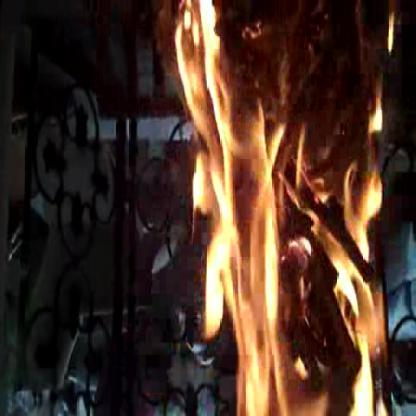Fire: (201, 67, 388, 415)
